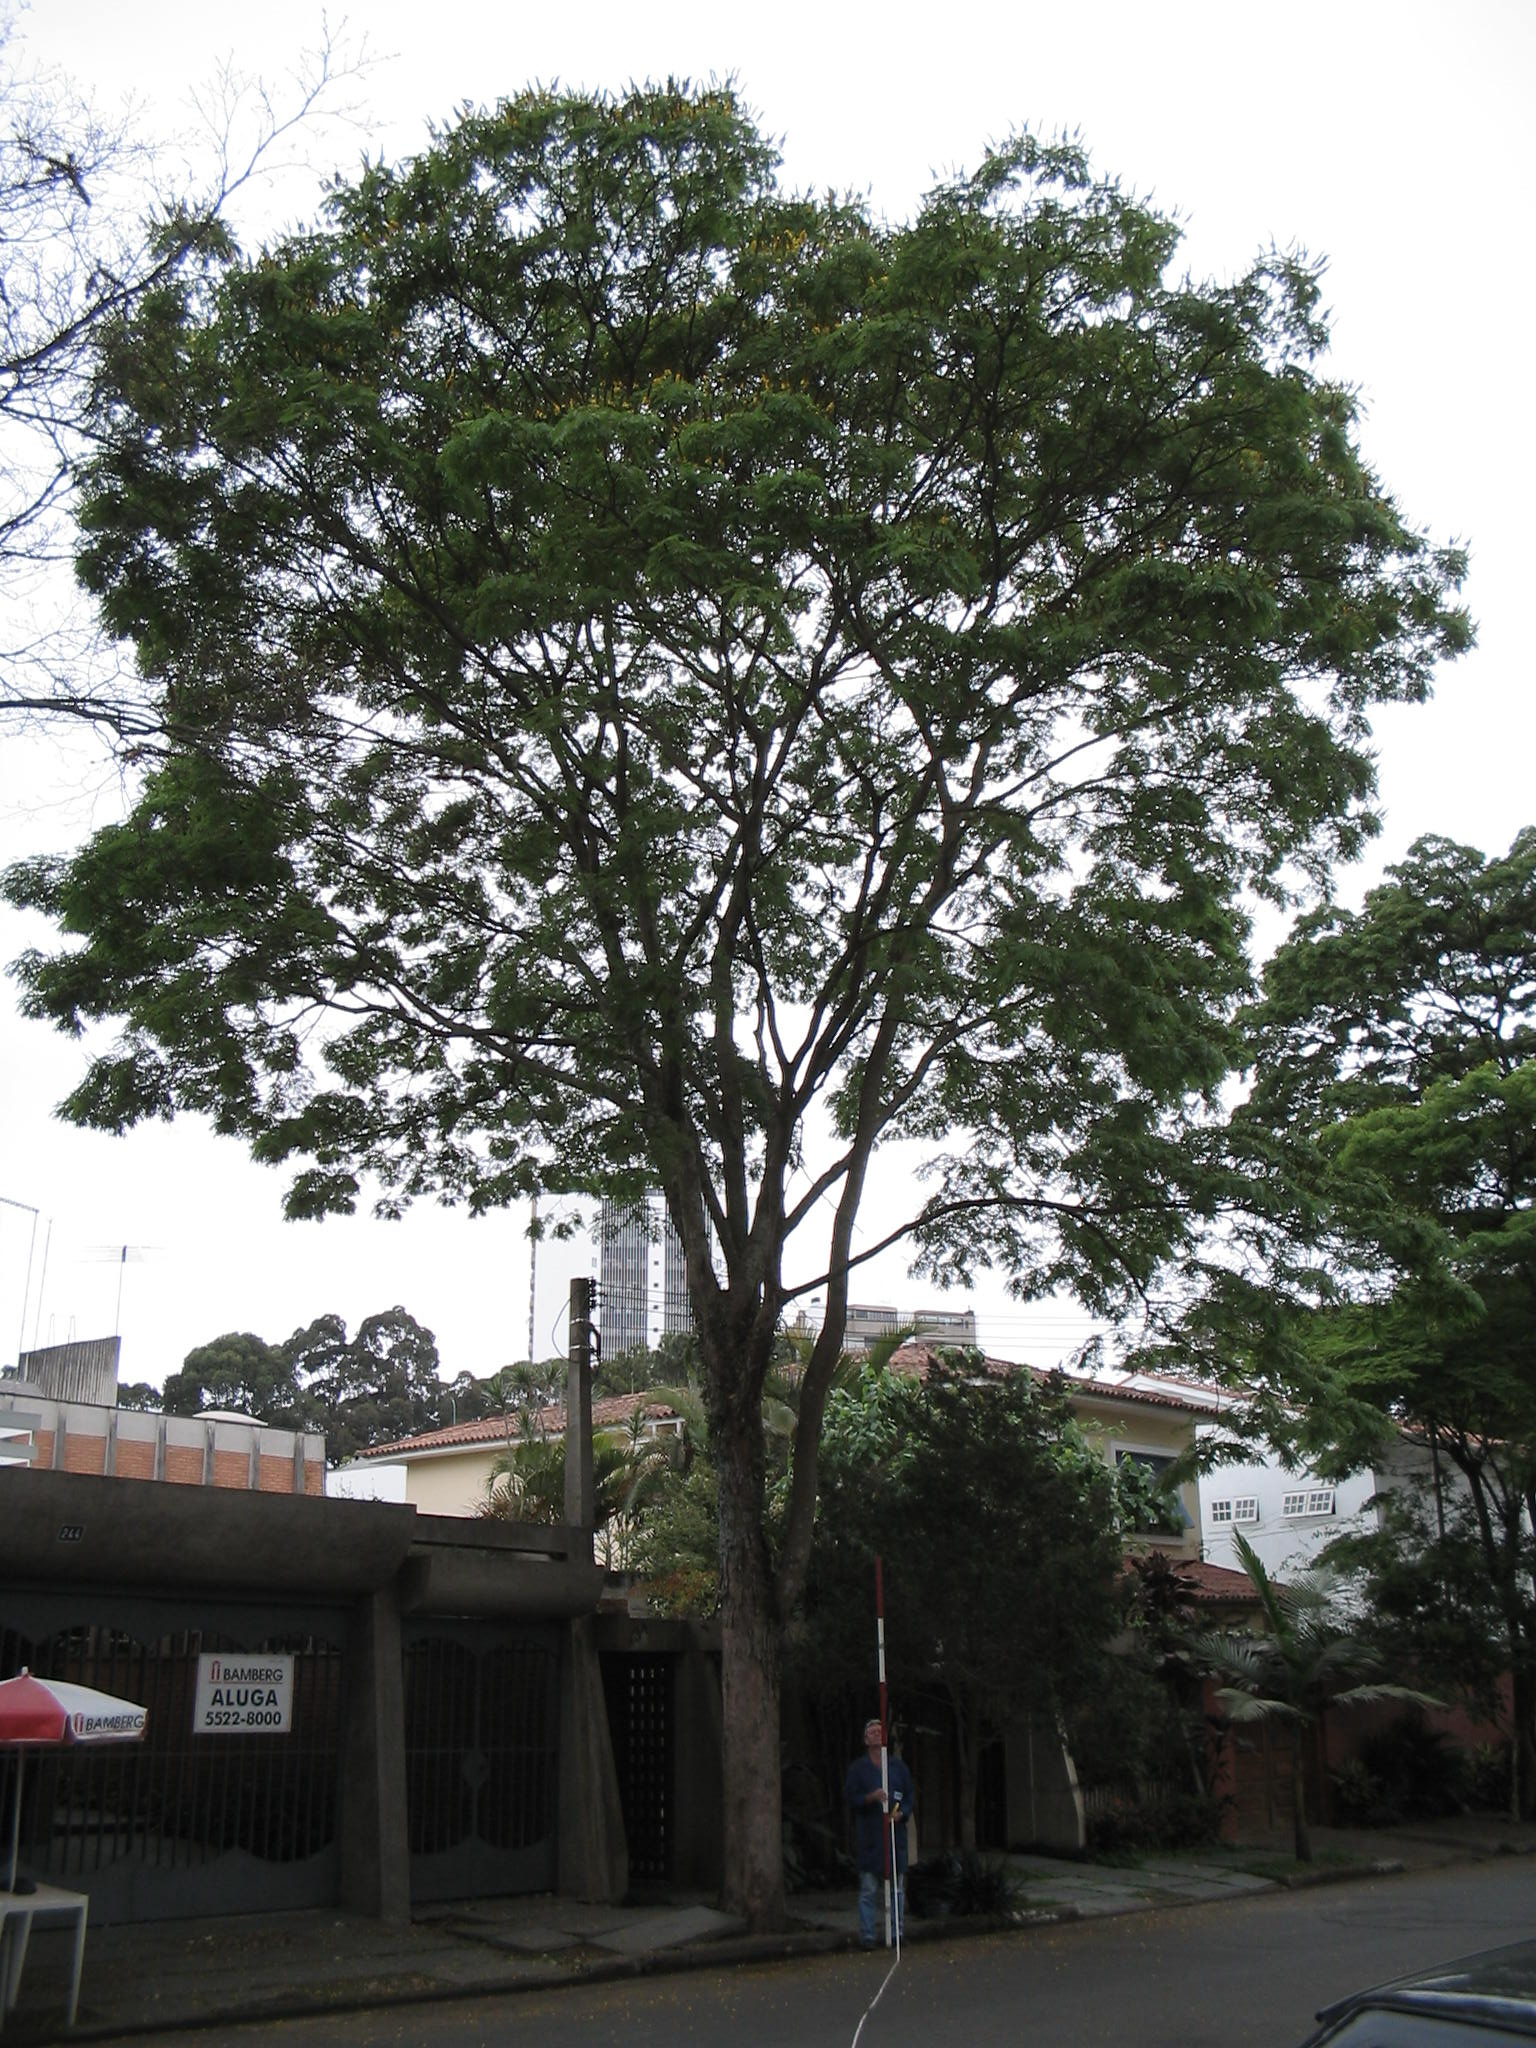crown: (6, 84, 1470, 1324)
stem: (665, 1603, 845, 1917)
stick: (842, 1558, 915, 1953)
tree: (2, 79, 1475, 1921)
